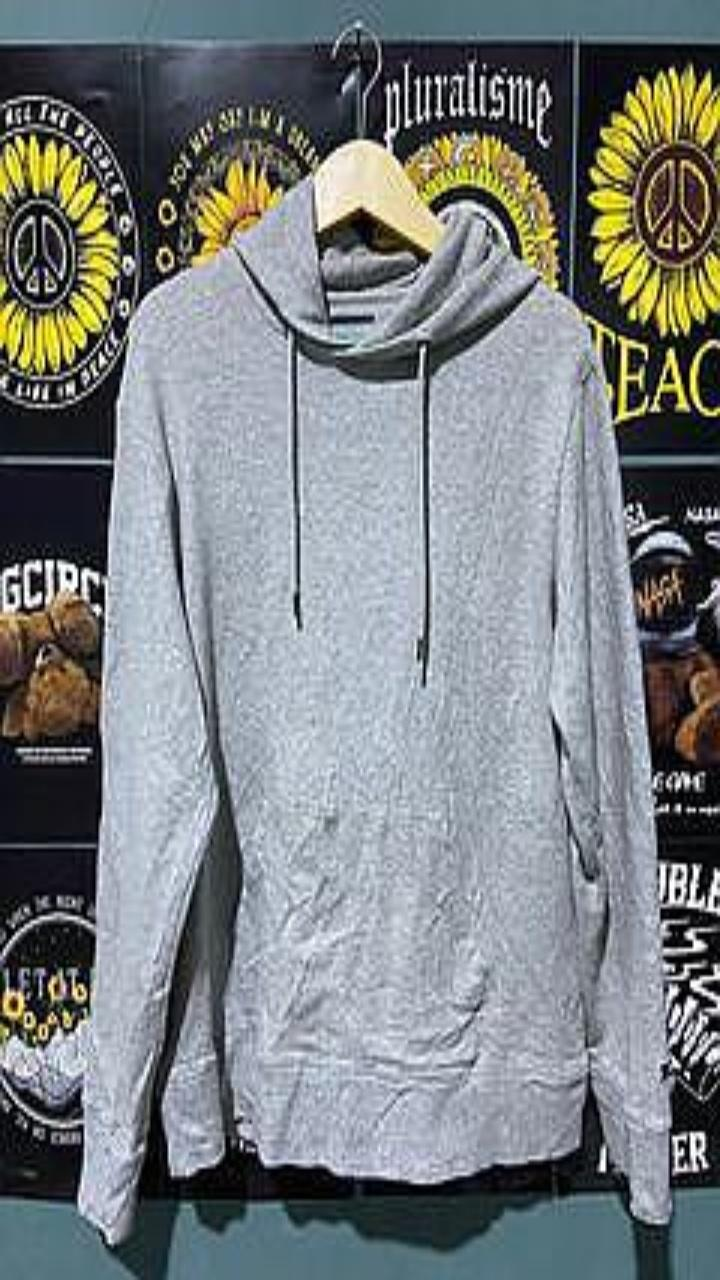Hoodie: (78, 175, 671, 1244)
